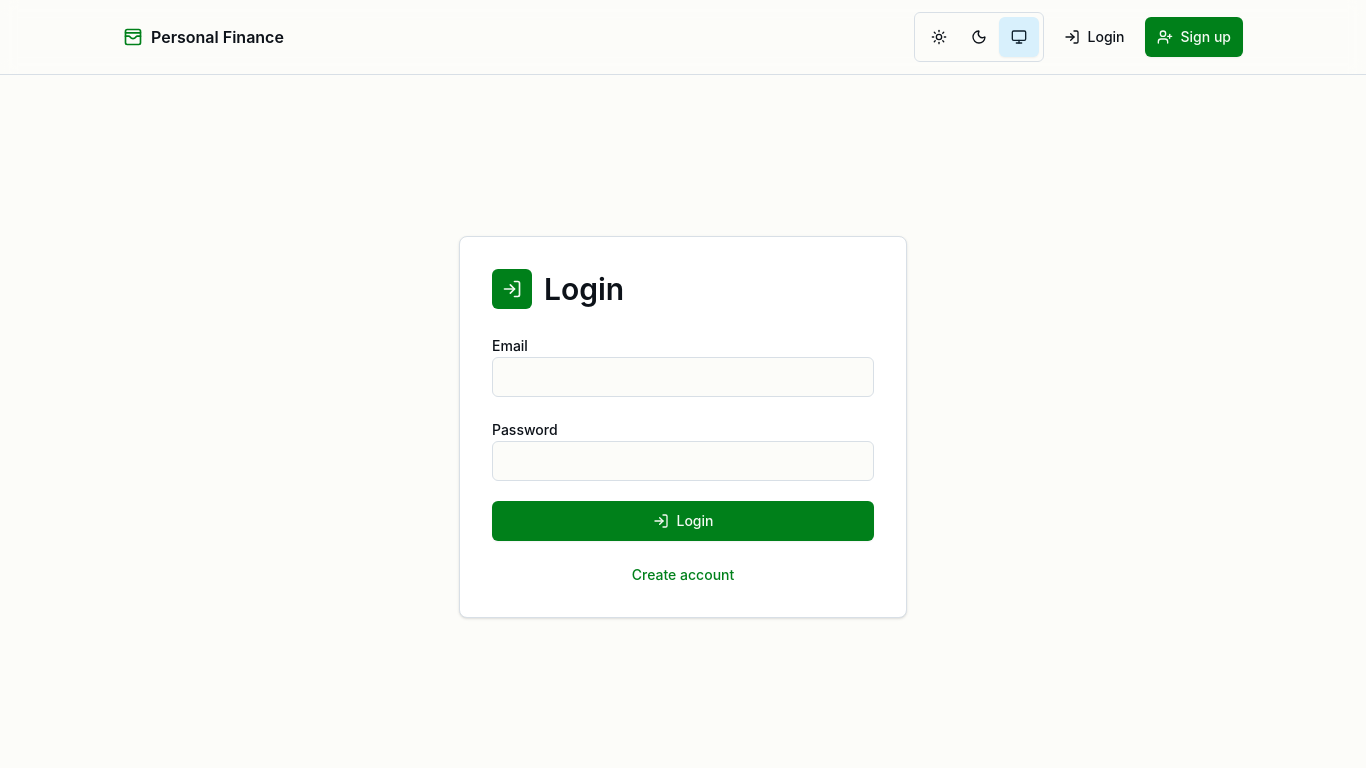
Test case: logs in and navigates to the protected home route
Expected: the heading "Login" is shown, x1=544 y1=271 x2=624 y2=307
Type "ada@example.com" into the field labelled "Email" at (683, 377), box x1=492 y1=357 x2=874 y2=397
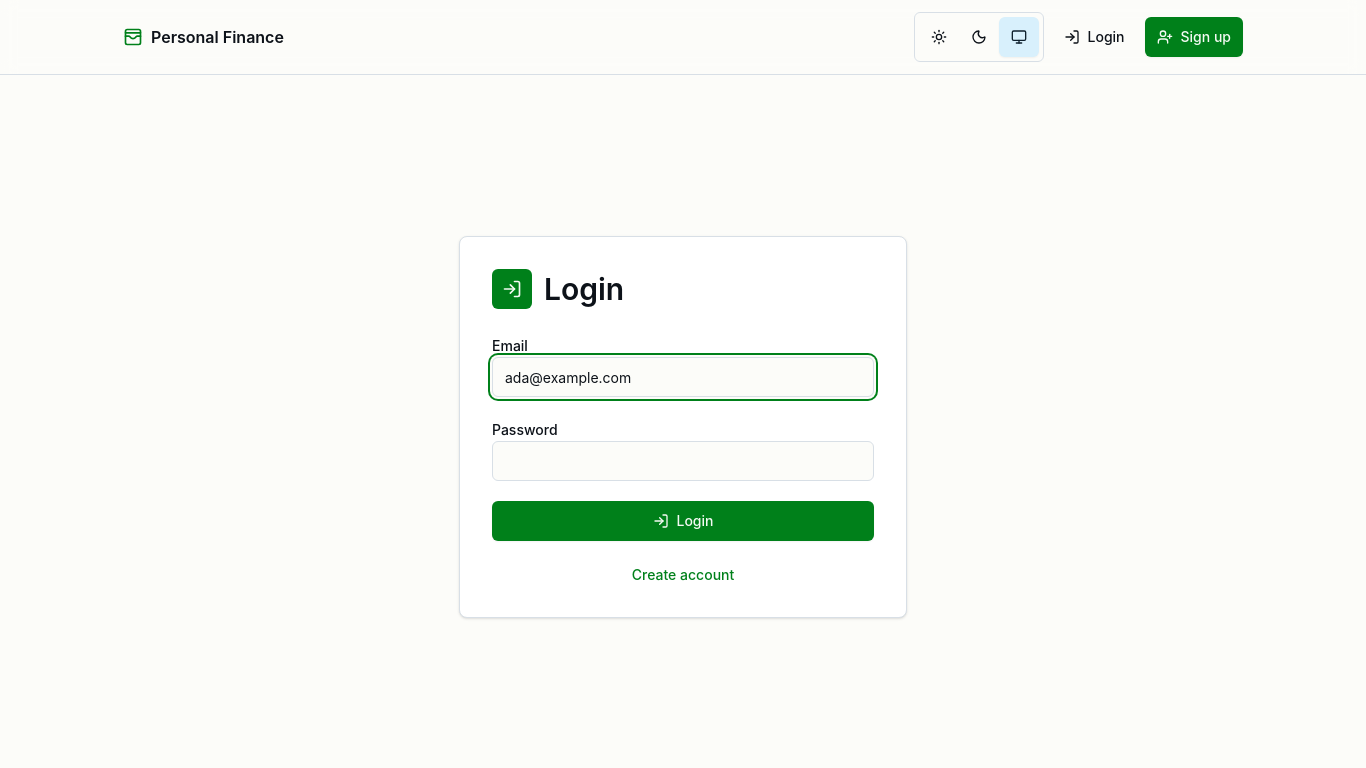
Type "correct horse battery staple" into the password field labelled "Password" at (683, 461), box x1=492 y1=441 x2=874 y2=481
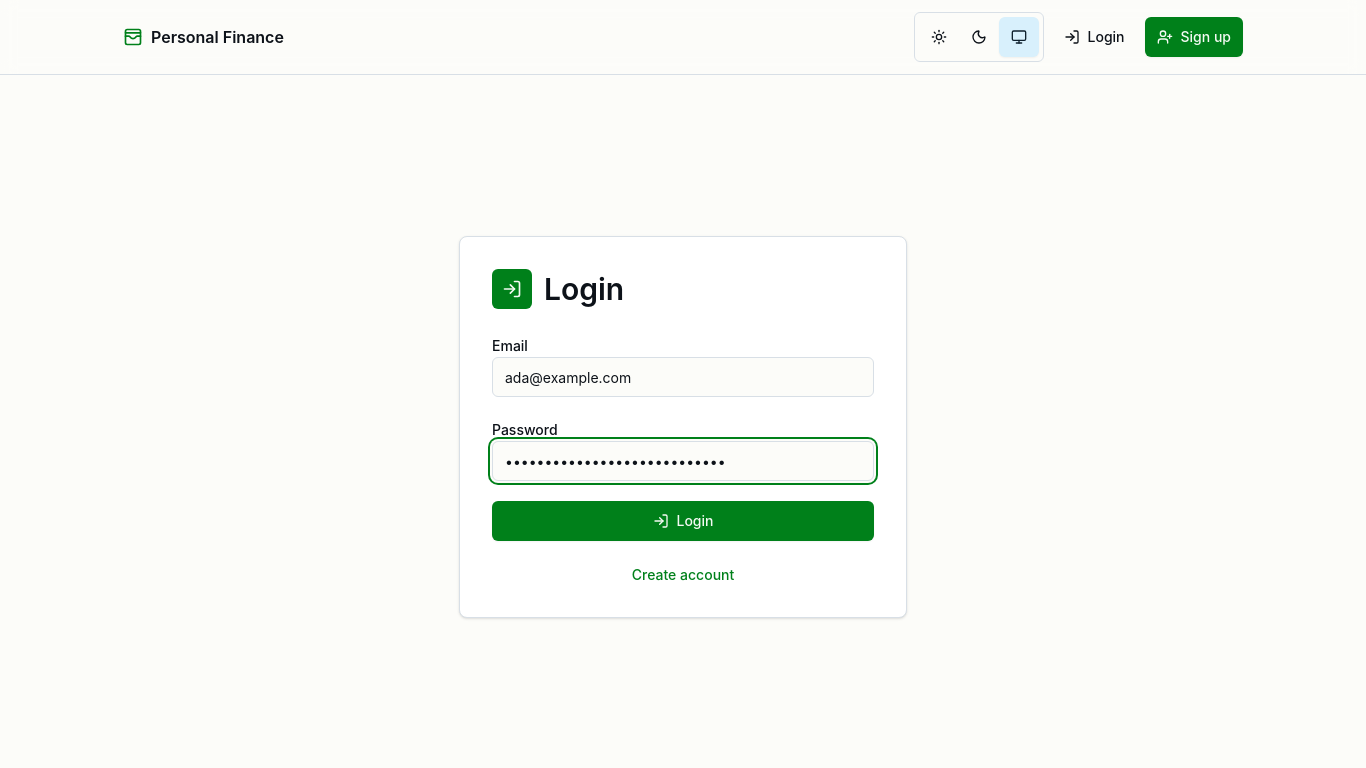
Click the button "Login" at (683, 521), box x1=492 y1=501 x2=874 y2=541
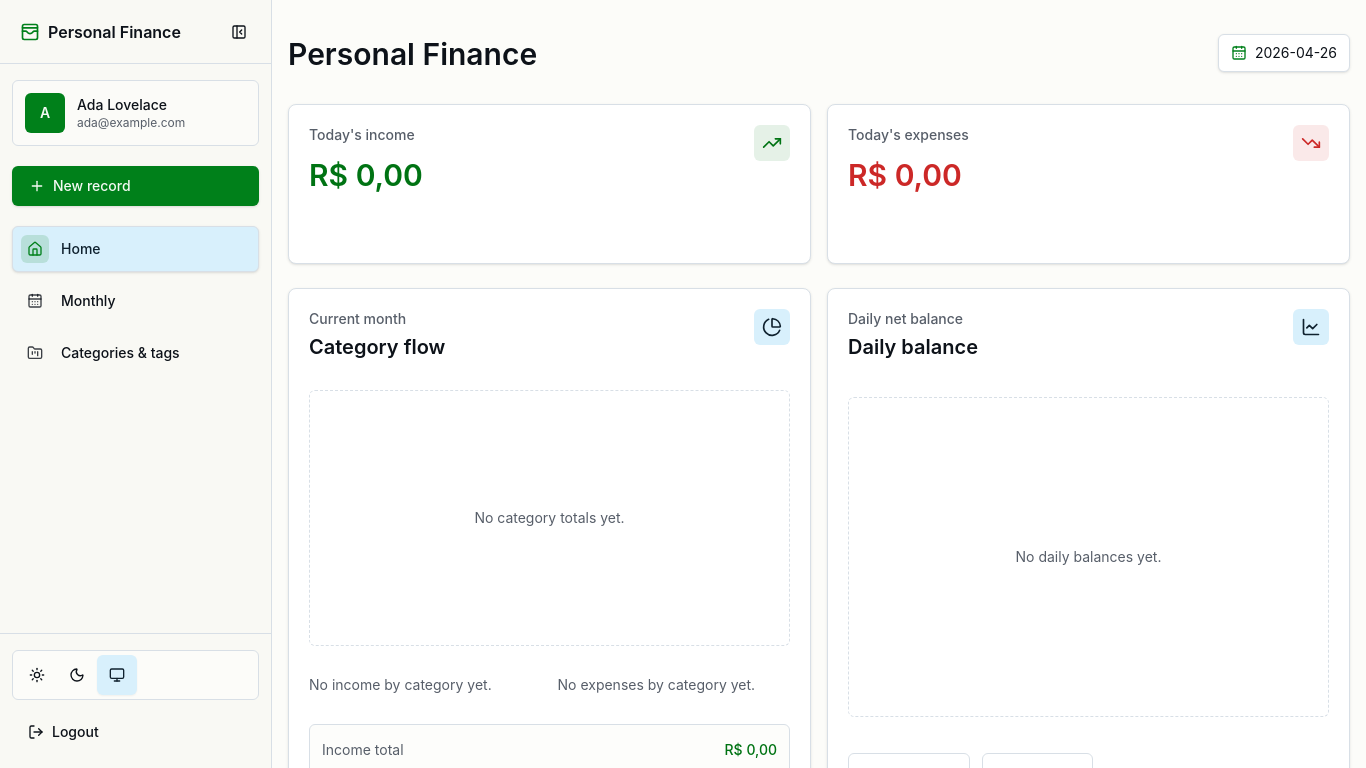
Expected: the heading "Personal Finance" is shown, x1=288 y1=36 x2=537 y2=72
Expected: the text "Ada Lovelace" is shown, x1=77 y1=96 x2=167 y2=113
